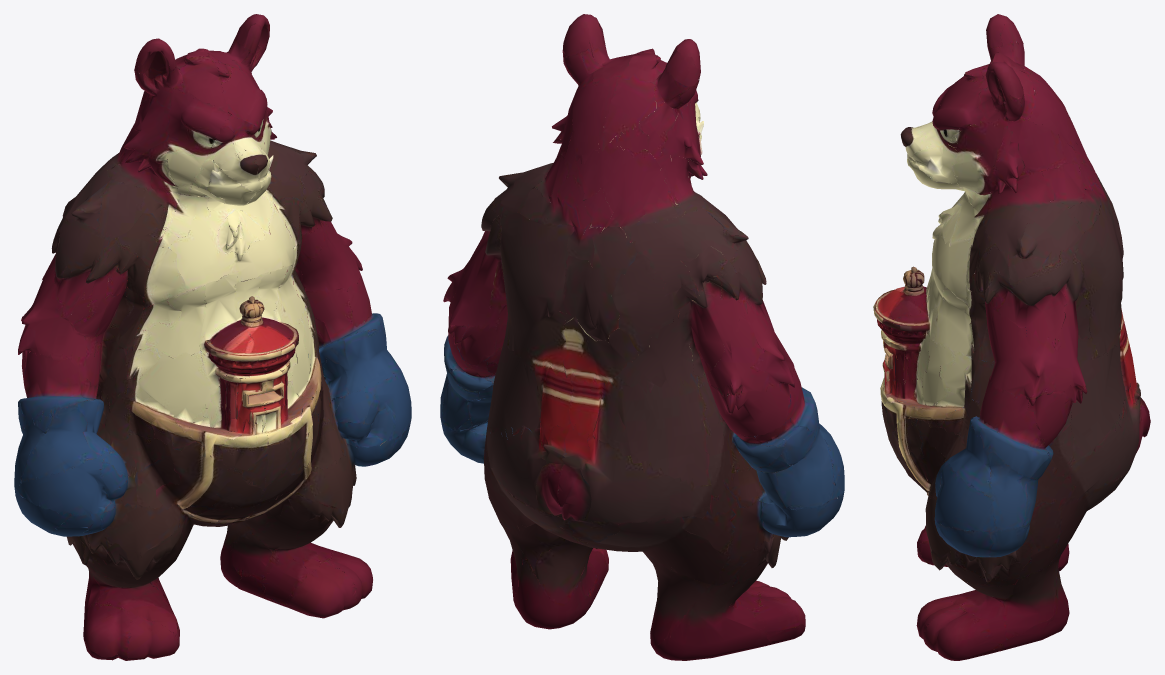
The picture shows the model from 3 angles, left to right: view 1: azimuth 30°, elevation 25°; view 2: azimuth 150°, elevation 25°; view 3: azimuth 270°, elevation 25°; orthographic projection. The views are drawn at different scales.
Visible parts, largest first — view 1: Mesh_0; view 2: Mesh_0; view 3: Mesh_0.
Boxes of the visible parts, x1,y1,x2,y2 form: Mesh_0: (14, 14, 411, 660); Mesh_0: (440, 14, 844, 660); Mesh_0: (873, 14, 1150, 660).
Size of the model in its own units: 1.3 by 1.9 by 0.8542.
1 material, 1 textured.
